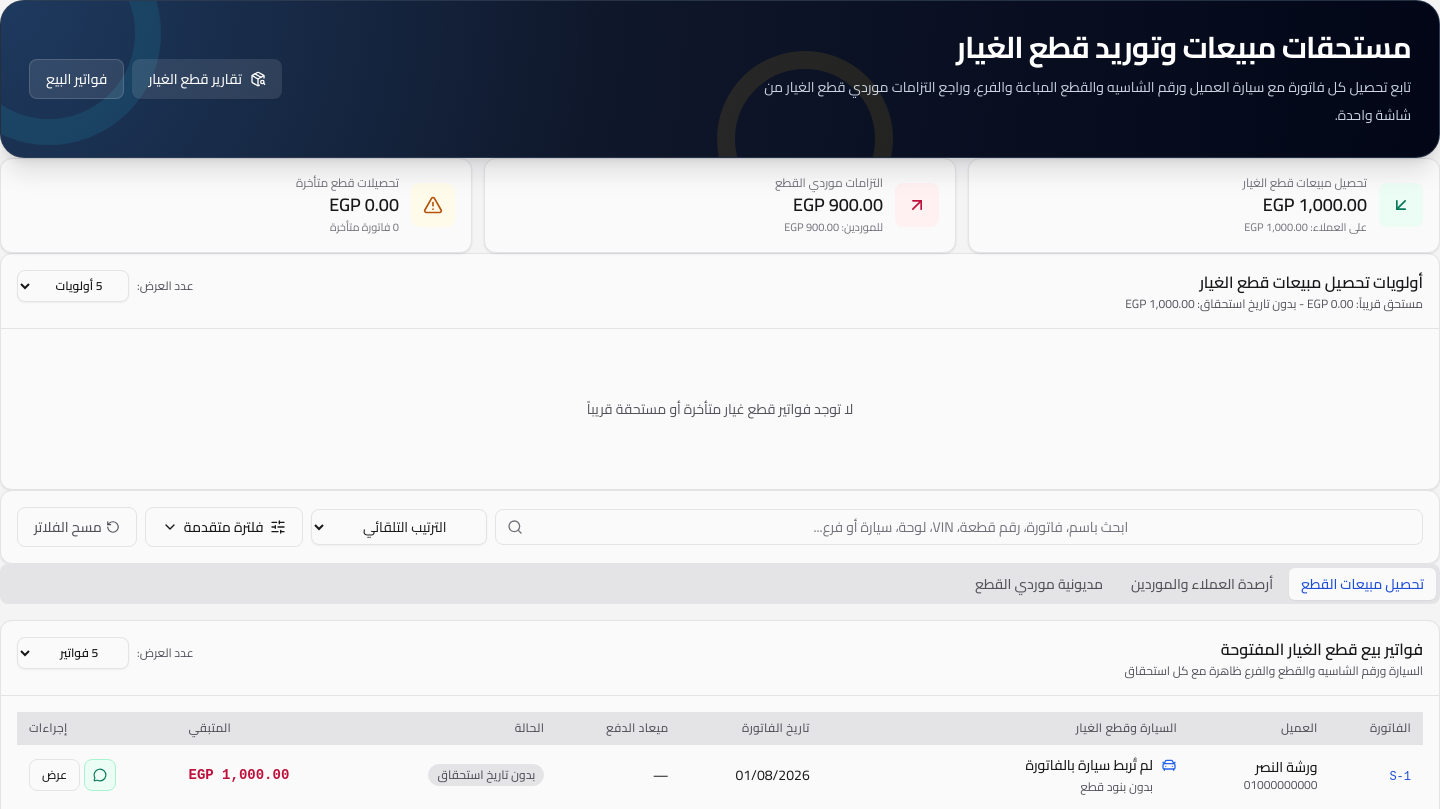
settling a balance asks first — TC-DUES-SETTLE › TC-DUES-SETTLE-004: cancelling settles nothing
Click the button "أرصدة العملاء والموردين" at (1202, 584), box 1119,568 -> 1285,600
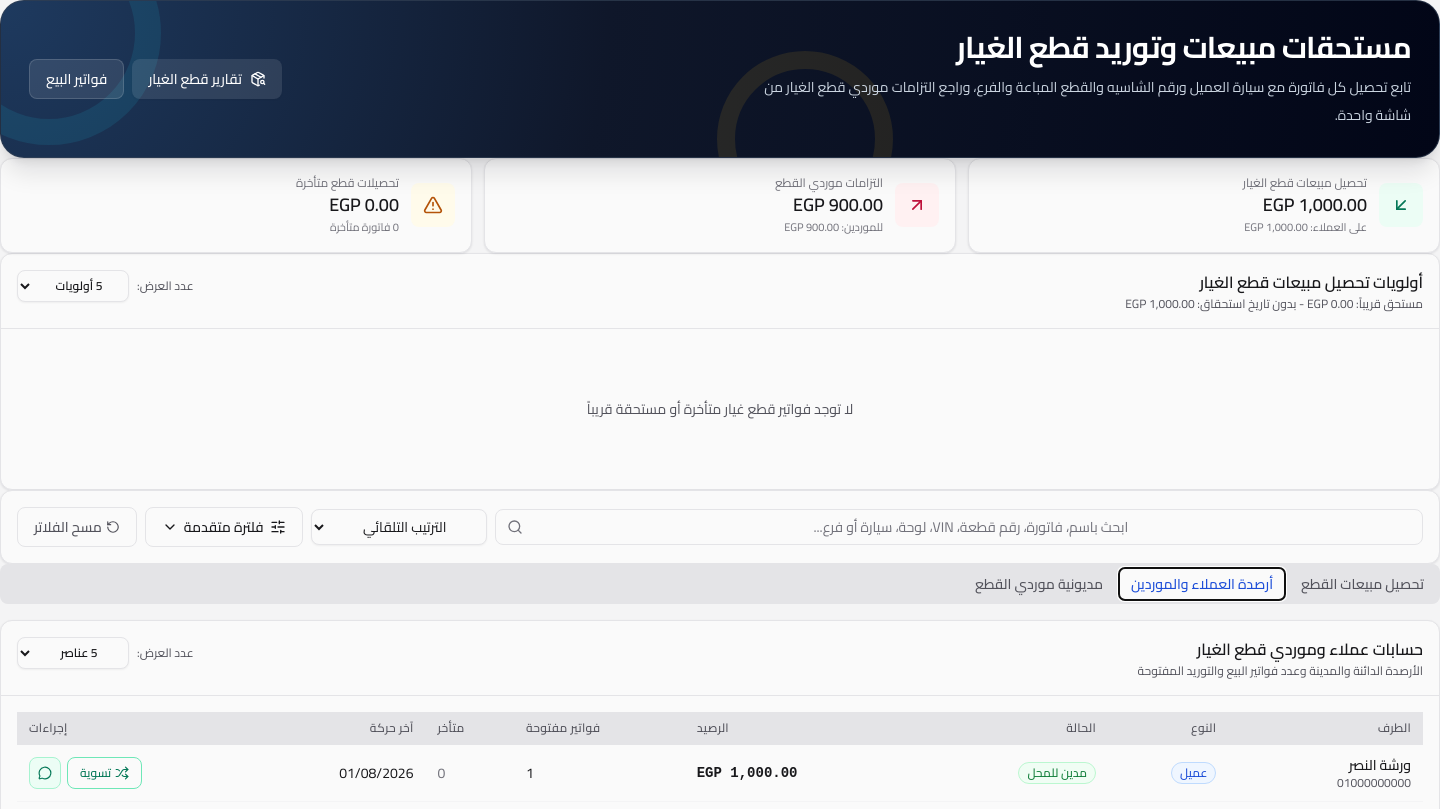
Click the button "تسوية" at (105, 772), box 67,756 -> 142,788
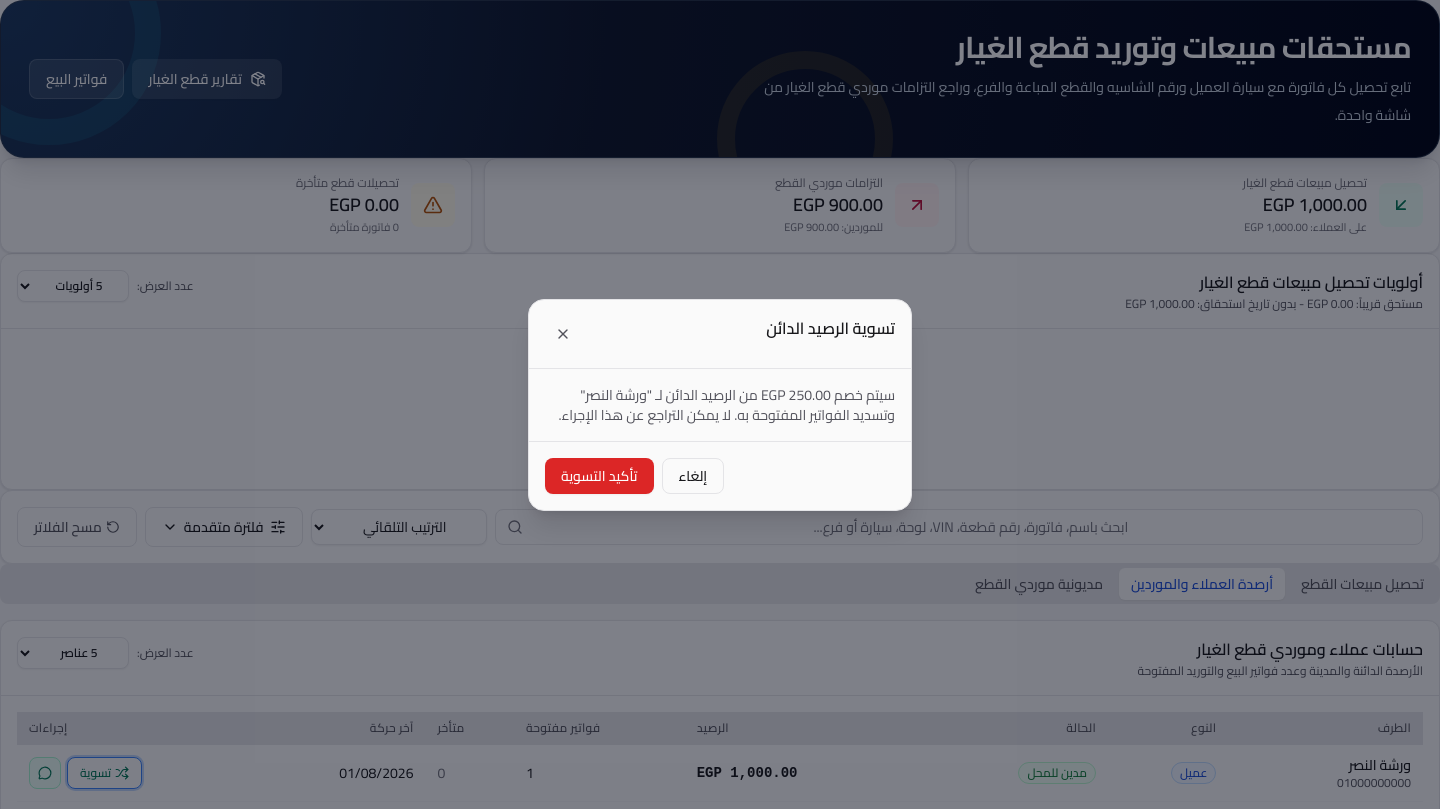
Click the button "إلغاء" at (693, 476), box 662,458 -> 724,494
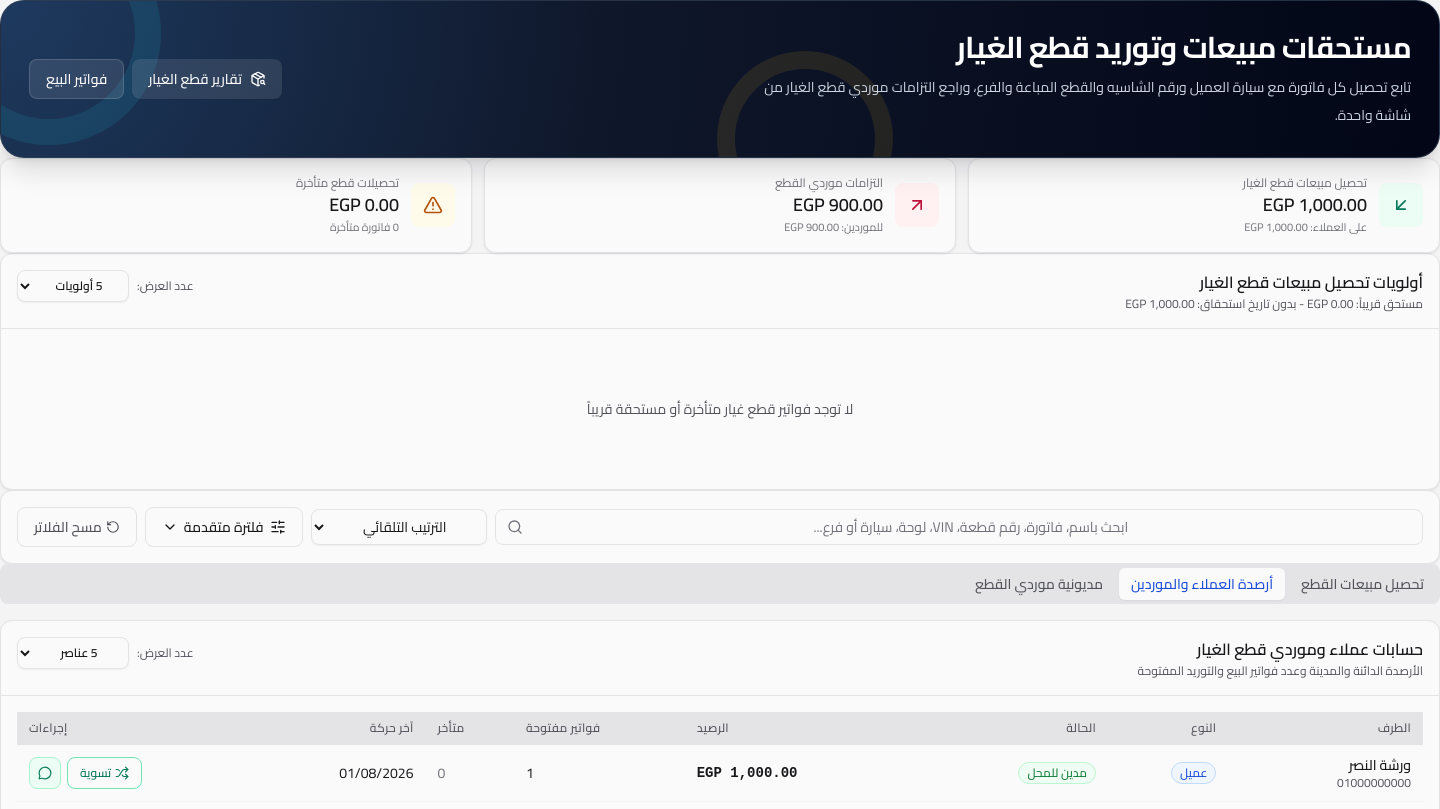
Result: the dialog is gone
